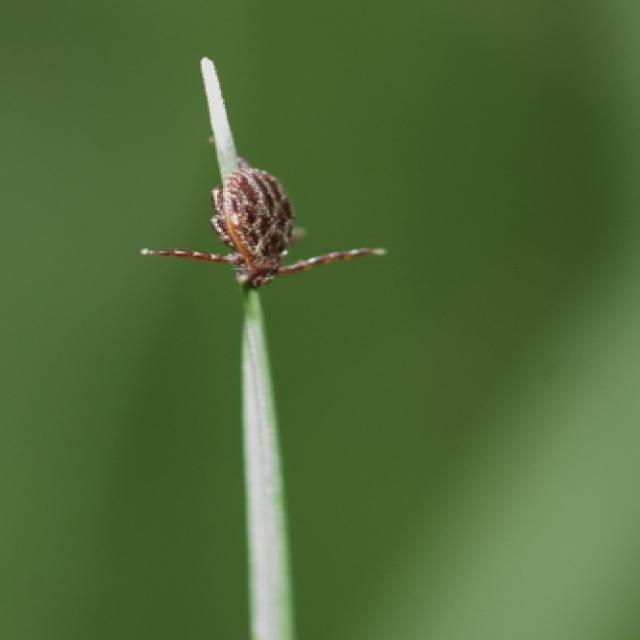Dermacentor Reticulatus-M: (140, 156, 386, 291)
